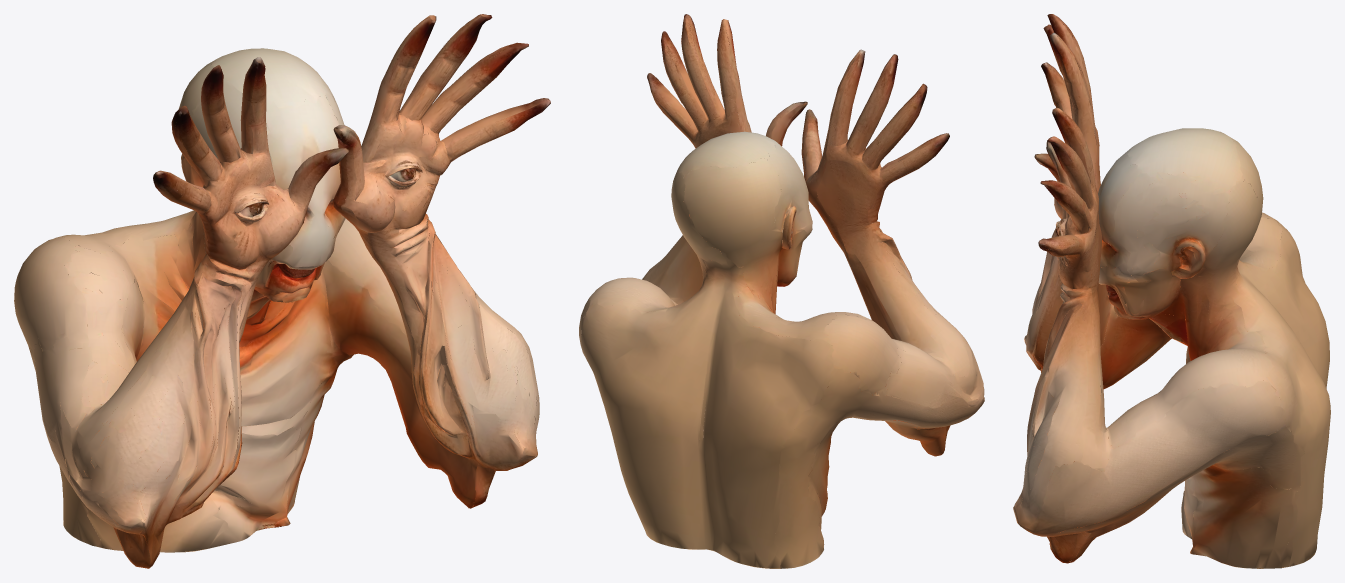
The model's file is pan.glb.
The picture shows the model from 3 angles, left to right: view 1: azimuth 30°, elevation 25°; view 2: azimuth 150°, elevation 25°; view 3: azimuth 270°, elevation 25°; orthographic projection. The views are drawn at different scales.
Parts seen in each view (by area): view 1: node_0; view 2: node_0; view 3: node_0.
Boxes of the visible parts, x1,y1,x2,y2 form: node_0: (14,14,550,568); node_0: (579,14,984,568); node_0: (1013,14,1330,568).
Size of the model in its own units: 0.8274 by 0.9823 by 0.593.
1 material, 1 textured.
